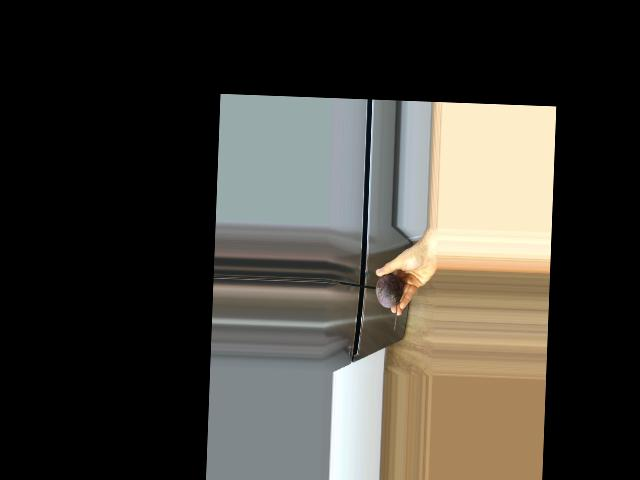beet: (374, 273, 402, 331)
